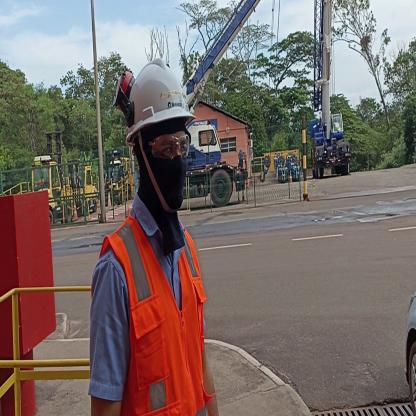Balaclava: (134, 132, 190, 242)
Capacete: (122, 57, 194, 122)
colete: (116, 223, 211, 416)
